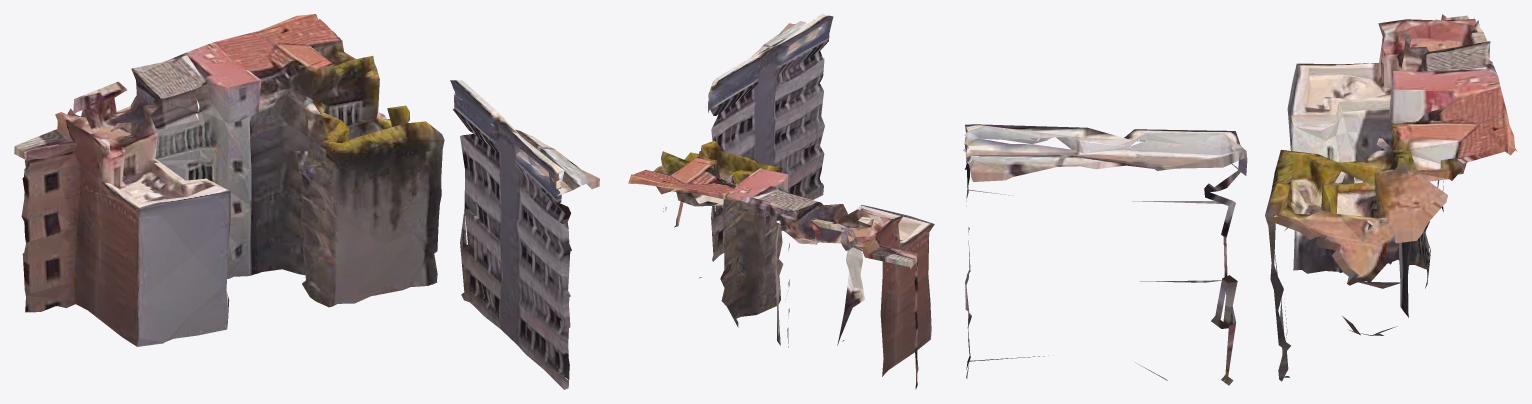
3 renders of one model, left to right at view 1: azimuth 30°, elevation 25°; view 2: azimuth 150°, elevation 25°; view 3: azimuth 270°, elevation 25°, orthographic. The views are drawn at different scales.
Parts seen in each view (by area): view 1: Mesh_0; view 2: Mesh_0; view 3: Mesh_0.
Boxes of the visible parts, box(x1,y1,x2,y2) form: Mesh_0: box(14, 14, 599, 389); Mesh_0: box(628, 14, 934, 389); Mesh_0: box(963, 14, 1517, 385).
Size of the model in its own units: 33.29 by 19.45 by 38.76.
Materials: 1 (1 with a texture image).
